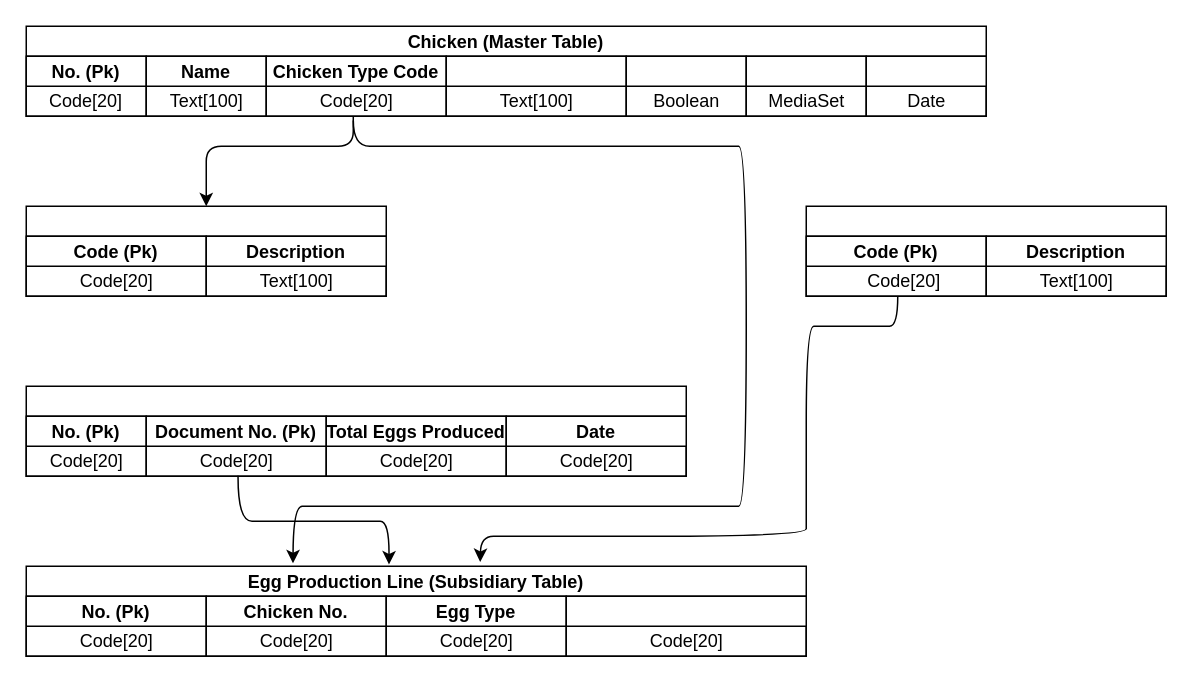
Image size: 1193x683. Some labels were removed from this diagram. The box of each missing label's shape, as (x1, y1, x2, y2) in pixels:
Amount Of Eggs Produced: (565, 595, 806, 656)
Blocked: (625, 55, 746, 116)
Chicken Type (Supplemental Table): (25, 205, 386, 296)
Chicken Type Desc.: (445, 55, 626, 116)
Egg Production Header (Supplemental Table): (25, 385, 686, 476)
Egg Type (Supplemental Table): (805, 205, 1166, 296)
Last Modified: (865, 55, 986, 116)
Picture: (745, 55, 866, 116)
